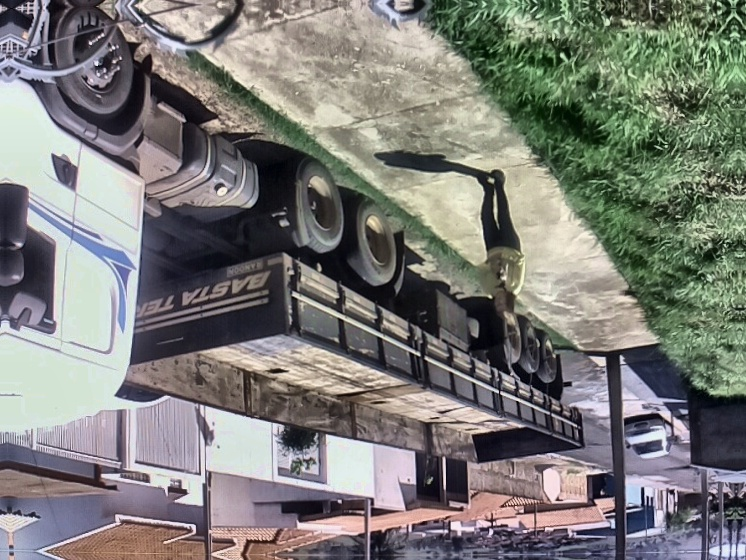person: (469, 165, 526, 320)
